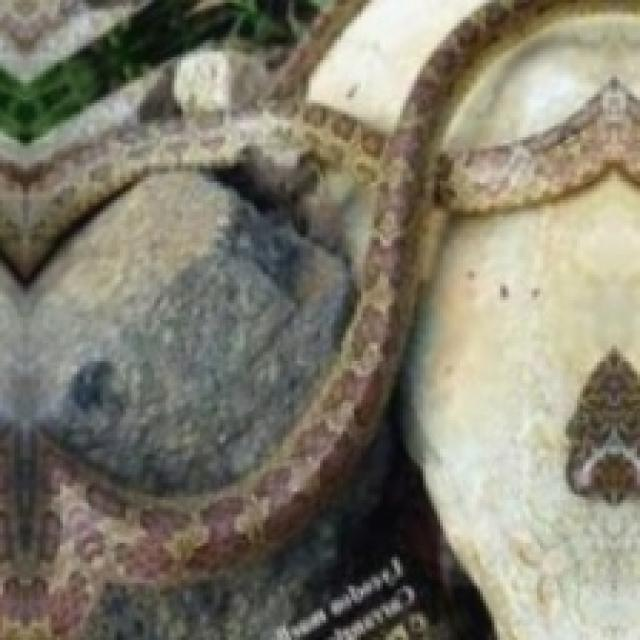mullers wolf snake: (0, 0, 637, 637), (380, 294, 454, 554), (0, 0, 106, 71)
